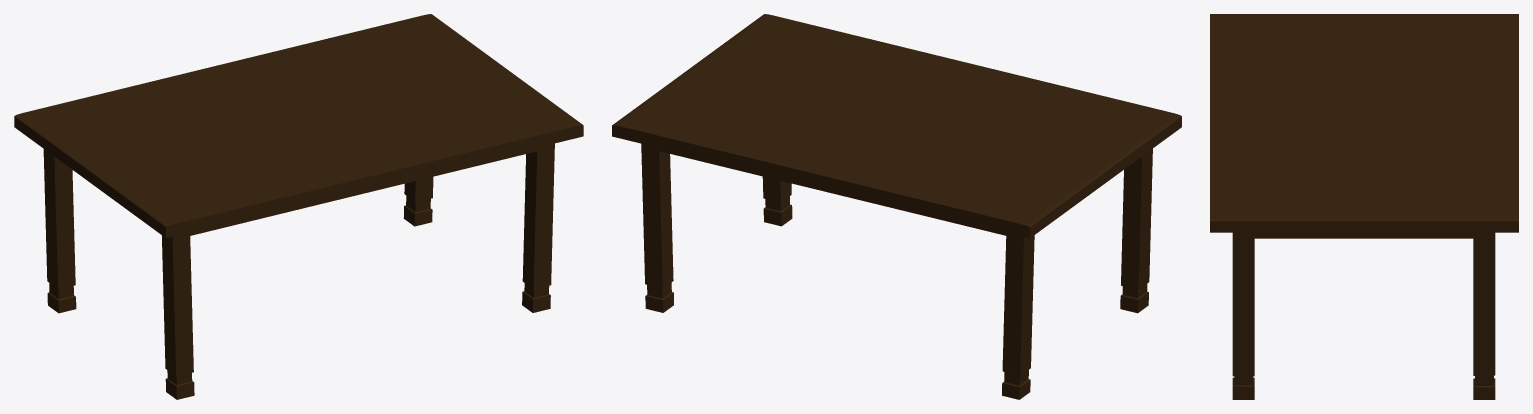
File: mesa.fbx
3 views of the same model, side by side, from view 1: azimuth 30°, elevation 25°; view 2: azimuth 150°, elevation 25°; view 3: azimuth 270°, elevation 25° (orthographic).
Visible parts, largest first — view 1: mesa; view 2: mesa; view 3: mesa.
Part boxes in pixels (<box>): mesa: <box>14,14,583,399</box>; mesa: <box>612,14,1181,399</box>; mesa: <box>1210,14,1518,399</box>.
Size of the model in its own units: 1520 by 652 by 957.
